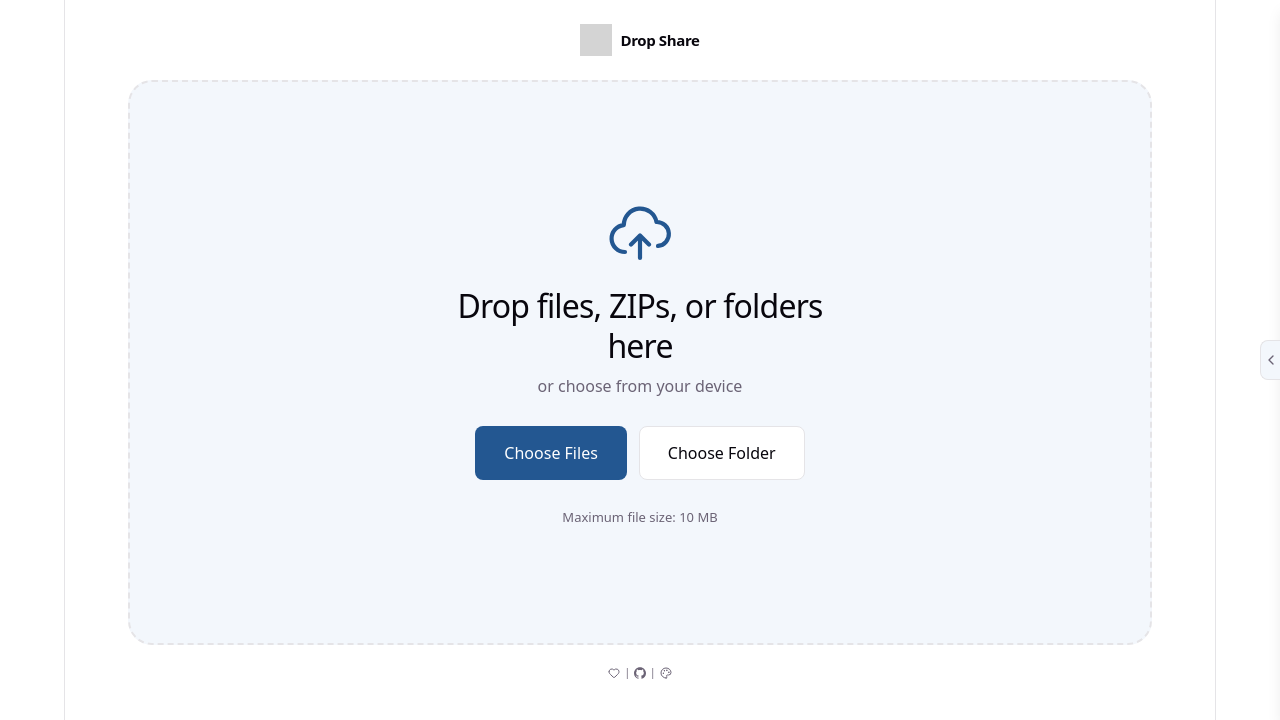
Scenario: recent artifacts › closes the drawer when clicking the backdrop behind it
Click the button named "recent artifacts".
click(1270, 360)  # box top-left (1260, 340), bottom-right (1279, 380)
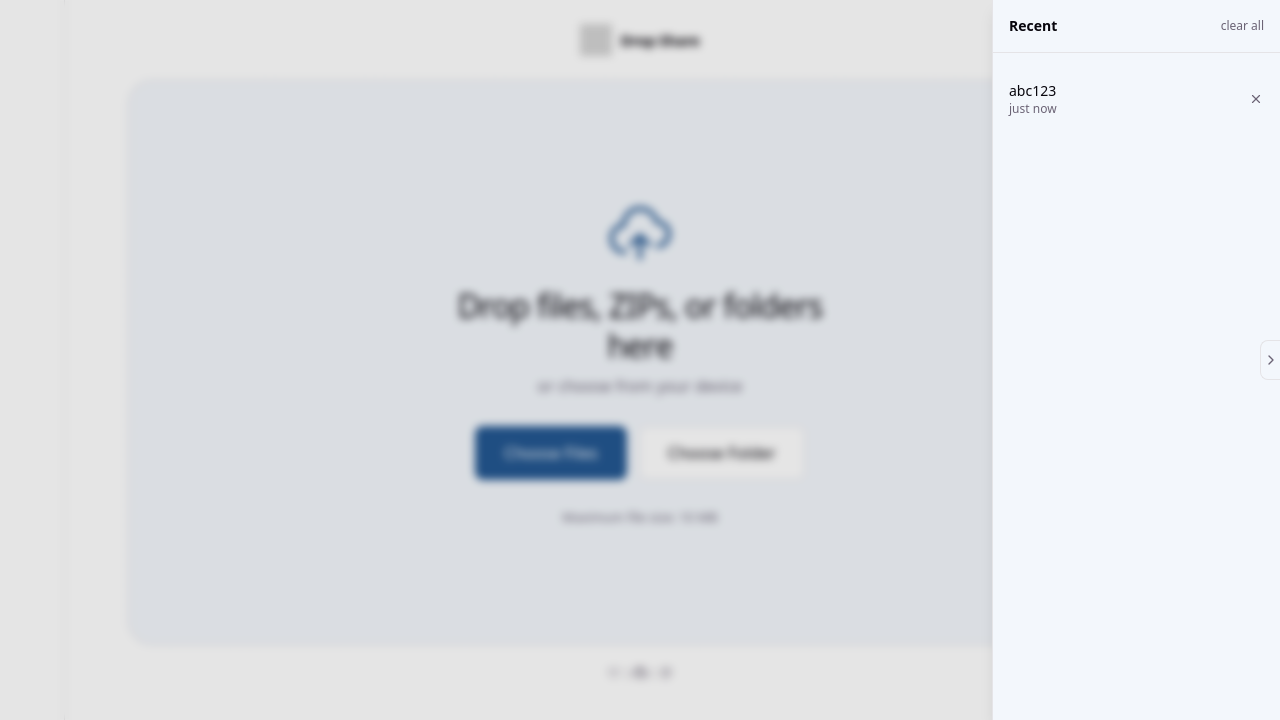
Now the element named "Close recent artifacts" is shown
Click the element named "Close recent artifacts".
click(640, 360)  # box top-left (0, 0), bottom-right (1279, 719)
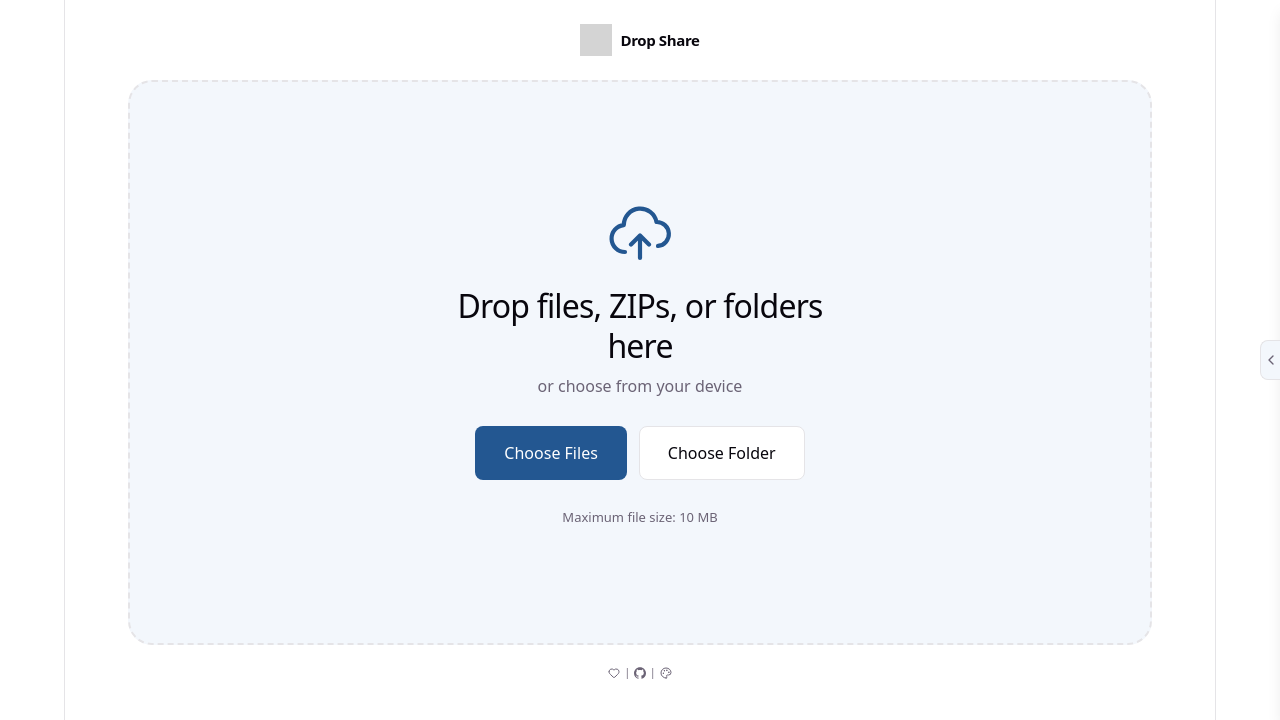
Now the button named "recent artifacts" is collapsed, box top-left (1260, 340), bottom-right (1279, 380)
